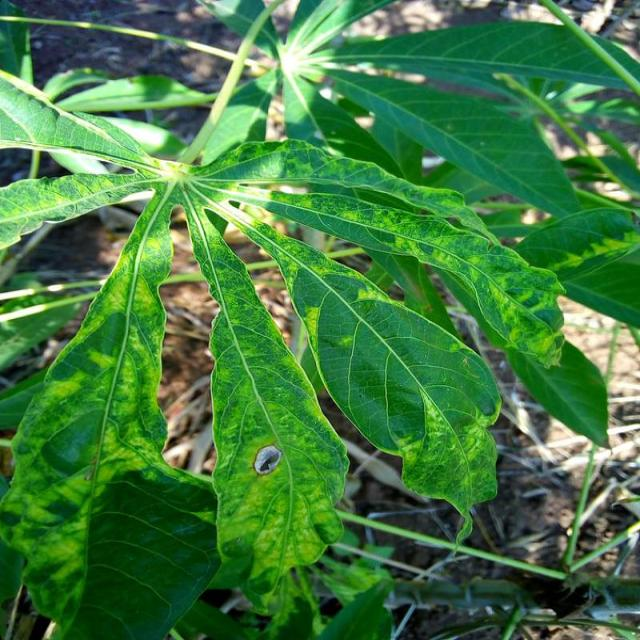cassava leaf: (1, 2, 636, 636), (0, 181, 222, 638), (180, 181, 350, 607)
